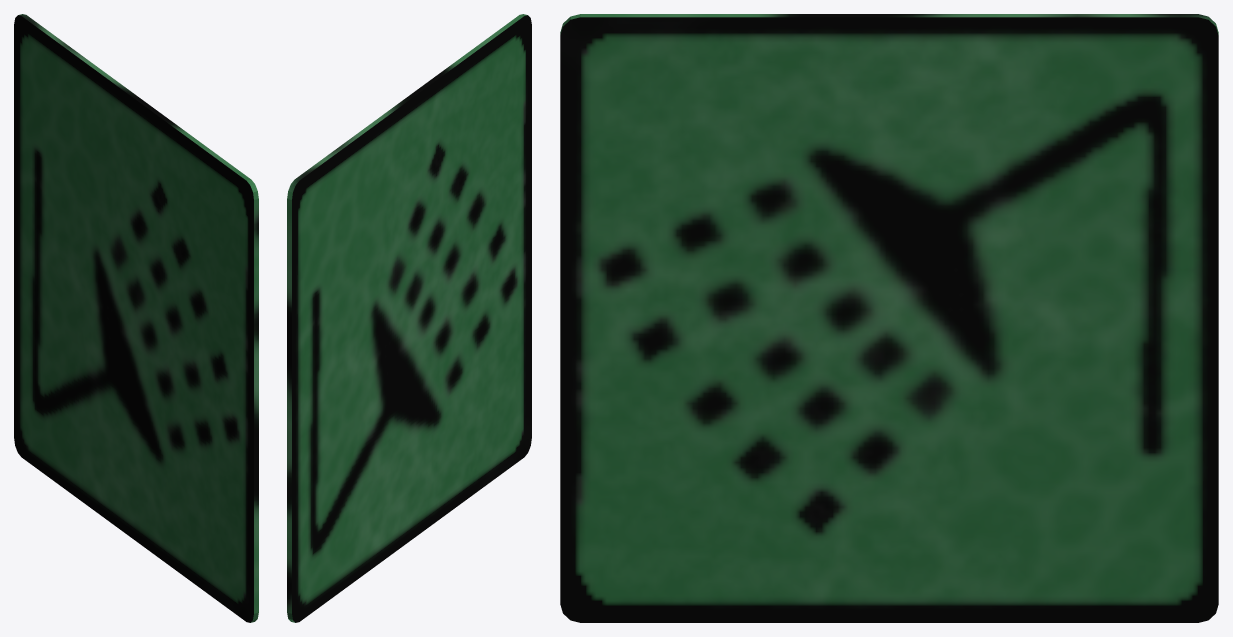
The model's file is DecalShower.fbx.
3 renders of one model, left to right at view 1: azimuth 30°, elevation 25°; view 2: azimuth 150°, elevation 25°; view 3: azimuth 270°, elevation 25°, orthographic. The views are drawn at different scales.
Parts seen in each view (by area): view 1: DecalShower; view 2: DecalShower; view 3: DecalShower.
Part boxes in pixels (x1,y1,x2,y2): DecalShower: [14, 14, 258, 622]; DecalShower: [287, 14, 531, 622]; DecalShower: [560, 14, 1218, 622].
Bounding box in the file's own units: 5.01e-05 × 0.00435 × 0.00429.
